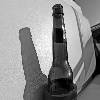beer: (41, 2, 80, 100)
